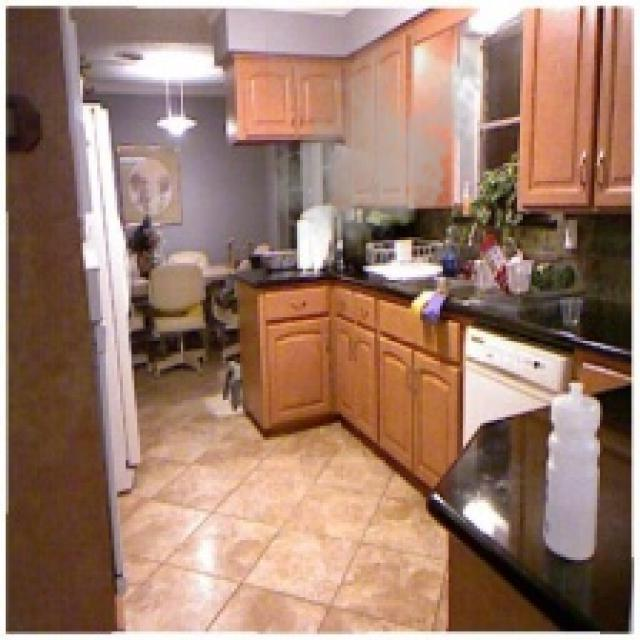Smoke: (266, 26, 488, 258)
